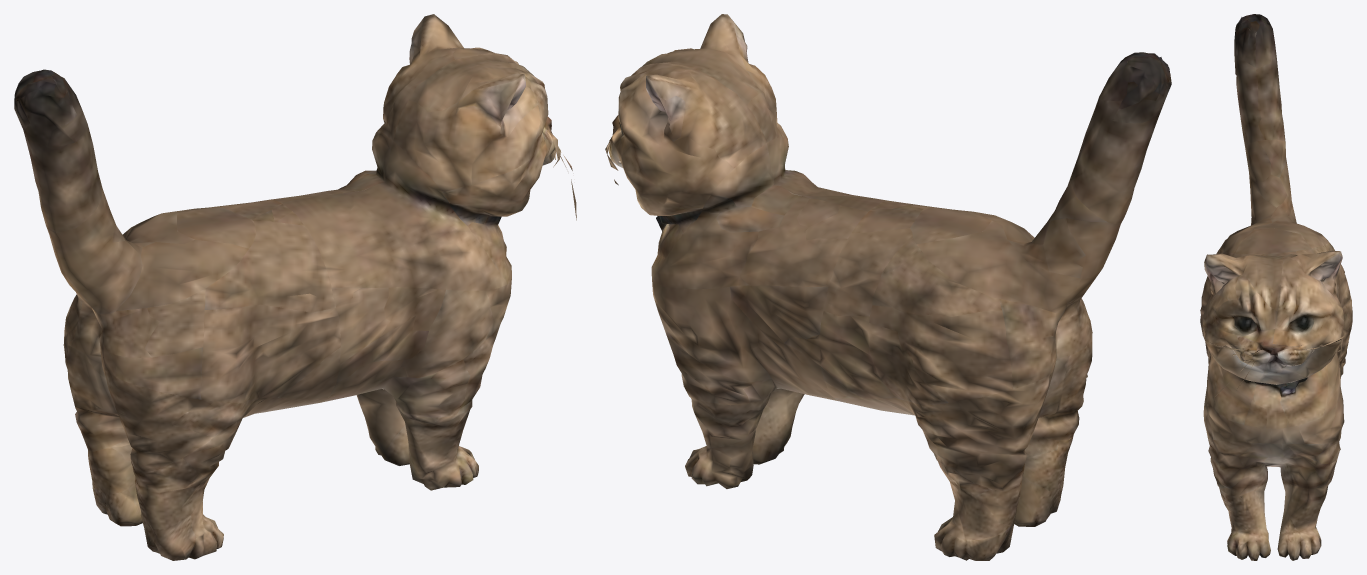
Rendered from MINIRACAT-lo.glb.
3 renders of one model, left to right at view 1: azimuth 30°, elevation 25°; view 2: azimuth 150°, elevation 25°; view 3: azimuth 270°, elevation 25°, orthographic. The views are drawn at different scales.
Visible parts, largest first — view 1: tripo_node_582fd924-ae98-4b0d-a6a9-6ae34c00bcf8; view 2: tripo_node_582fd924-ae98-4b0d-a6a9-6ae34c00bcf8; view 3: tripo_node_582fd924-ae98-4b0d-a6a9-6ae34c00bcf8.
Part boxes in pixels (<box>): tripo_node_582fd924-ae98-4b0d-a6a9-6ae34c00bcf8: <box>14,14,576,560</box>; tripo_node_582fd924-ae98-4b0d-a6a9-6ae34c00bcf8: <box>605,14,1171,560</box>; tripo_node_582fd924-ae98-4b0d-a6a9-6ae34c00bcf8: <box>1200,14,1352,560</box>.
Bounding box in the file's own units: 1.14 × 0.9948 × 0.3569.
1 material, 1 textured.
